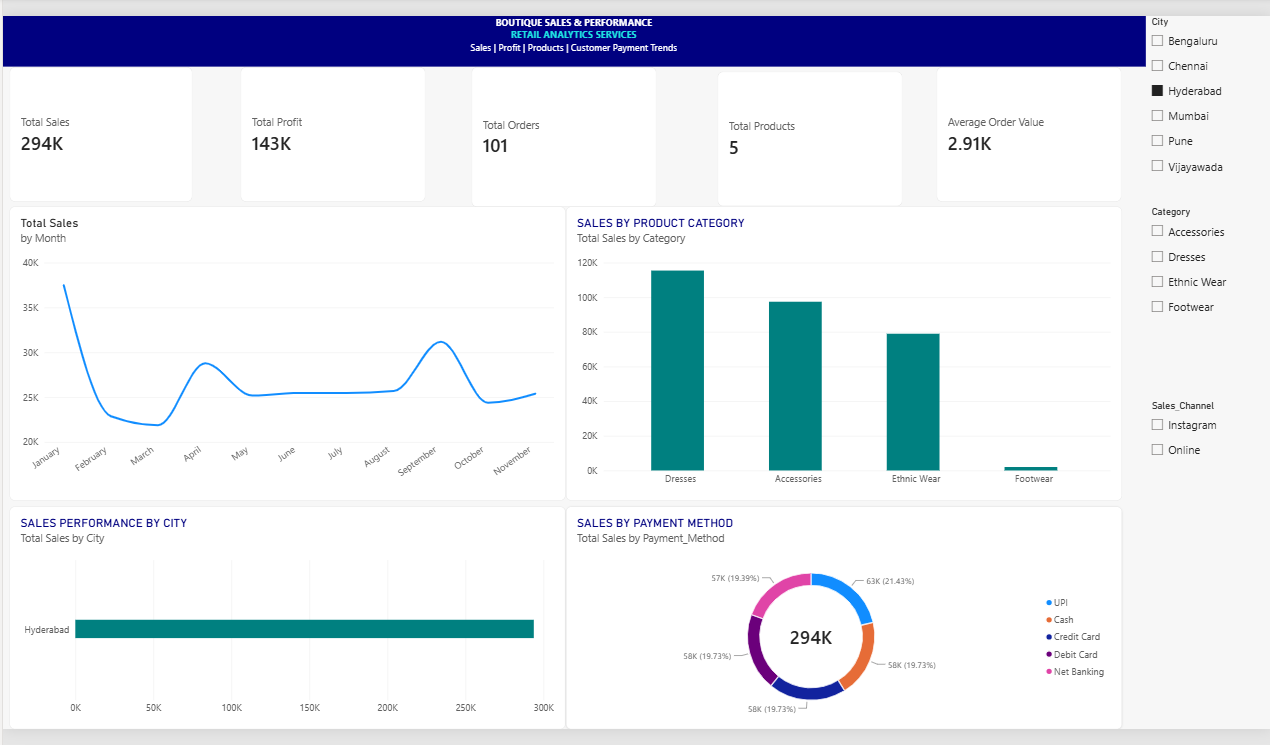

The dashboard page shown, as its layout file describes it:
{"tool":"powerbi","page":{"name":"Page 1","canvas":[1920,1080],"ordinal":0},"visuals":[{"type":"cardVisual","fields":{"Data":["Table1.Total Sales"]},"box":[11.3,76.5,277.8,204.1],"z":0},{"type":"cardVisual","fields":{"Data":["Table1.Total Profit"]},"box":[360,76.5,280.6,204.1],"z":1},{"type":"cardVisual","fields":{"Data":["Table1.Total Orders"]},"box":[711.5,76.5,280.6,212.6],"z":2},{"type":"cardVisual","fields":{"Data":["Table1.Total Products"]},"box":[1082.8,85,280.6,204.1],"z":3},{"type":"cardVisual","fields":{"Data":["Table1.Average Order Value"]},"box":[1414.5,76.5,280.6,204.1],"z":4},{"type":"lineChart","fields":{"Category":["Table1.Order_Date.Variation.Date Hierarchy.Month"],"Y":["Table1.Total Sales"]},"box":[11.3,289.1,841.9,445],"z":5},{"type":"clusteredColumnChart","title":"SALES BY PRODUCT CATEGORY","fields":{"Category":["Table1.Category"],"Y":["Table1.Total Sales"]},"box":[853.2,289.1,841.9,445],"z":6},{"type":"clusteredBarChart","title":"SALES PERFORMANCE BY CITY","fields":{"Category":["Table1.City"],"Y":["Table1.Total Sales"]},"box":[11.3,742.7,841.9,337.3],"z":7},{"type":"donutChart","title":"SALES BY PAYMENT METHOD","fields":{"Category":["Table1.Payment_Method"],"Y":["Table1.Total Sales"]},"box":[853.2,742.7,841.9,337.3],"z":8},{"type":"slicer","fields":{"Values":["Table1.City"]},"box":[1732,0,189.9,280.6],"z":9},{"type":"slicer","fields":{"Values":["Table1.Category"]},"box":[1732,289.1,187.1,292],"z":10},{"type":"slicer","fields":{"Values":["Table1.Sales_Channel"]},"box":[1732,581.1,187.1,198.4],"z":11},{"type":"textbox","box":[0,0,1732,76.5],"z":13}]}

Visuals, with their boxes on the page's 1920x1080 design canvas (x1, y1, x2, y2). These are canvas units, not pixel positions in the 1270x745 screenshot, which may show the page scaled, cropped or inside an application window:
cardVisual - Table1.Total Sales: [11,76,289,281]
cardVisual - Table1.Total Profit: [360,76,641,281]
cardVisual - Table1.Total Orders: [712,76,992,289]
cardVisual - Table1.Total Products: [1083,85,1363,289]
cardVisual - Table1.Average Order Value: [1414,76,1695,281]
lineChart - Table1.Order_Date.Variation.Date Hierarchy.Month x Table1.Total Sales: [11,289,853,734]
"SALES BY PRODUCT CATEGORY" clusteredColumnChart: [853,289,1695,734]
"SALES PERFORMANCE BY CITY" clusteredBarChart: [11,743,853,1080]
"SALES BY PAYMENT METHOD" donutChart: [853,743,1695,1080]
slicer - Table1.City: [1732,0,1922,281]
slicer - Table1.Category: [1732,289,1919,581]
slicer - Table1.Sales_Channel: [1732,581,1919,780]
textbox: [0,0,1732,76]
